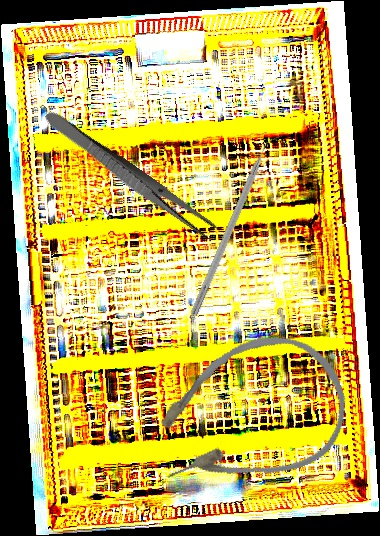Cannula: (133, 316, 363, 512)
Chopper: (189, 128, 286, 322)
Dressing Forceps: (39, 107, 222, 244)
